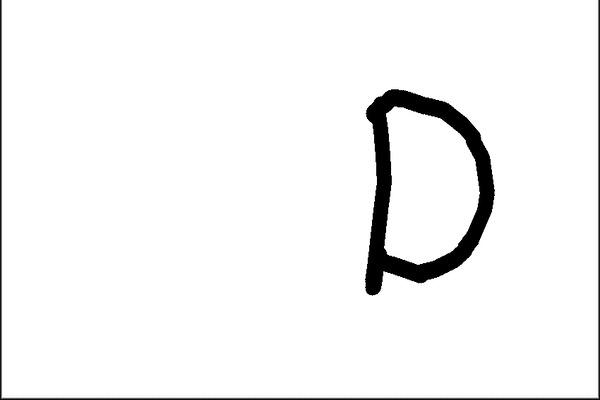D: (359, 85, 499, 298)
